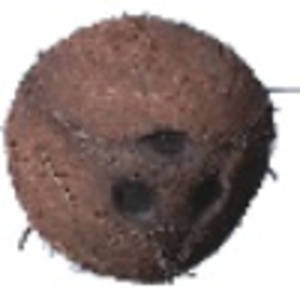coco: (5, 15, 300, 285)
